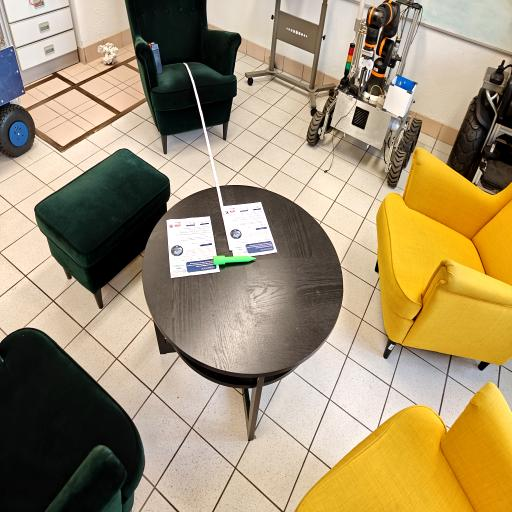Probe-Detection: (213, 255, 256, 265)
